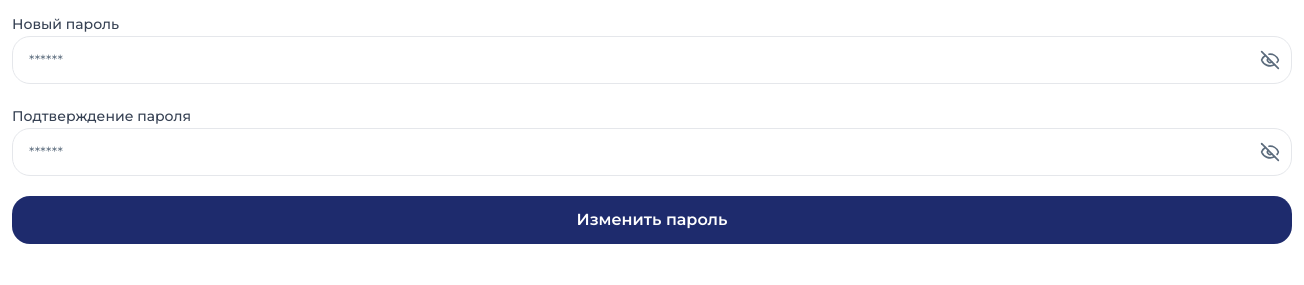
Test: ChangeManagerPasswordForm › проверяет совпадение паролей
The width and height of the screenshot is (1304, 285).
Type "secret123" into the password field labelled "Новый пароль" at (652, 60), box [12, 36, 1292, 84]
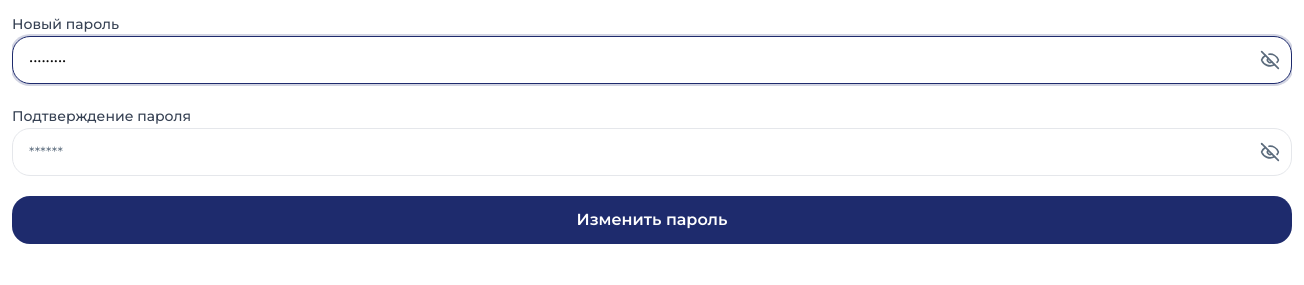
Type "other123" into the password field labelled "Подтверждение пароля" at (652, 152), box [12, 128, 1292, 176]
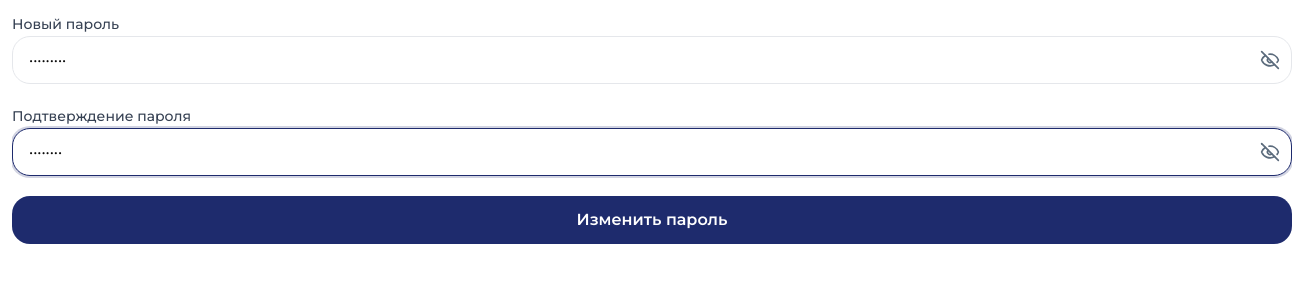
Click the button "Изменить пароль" at (652, 220), box [12, 196, 1292, 244]
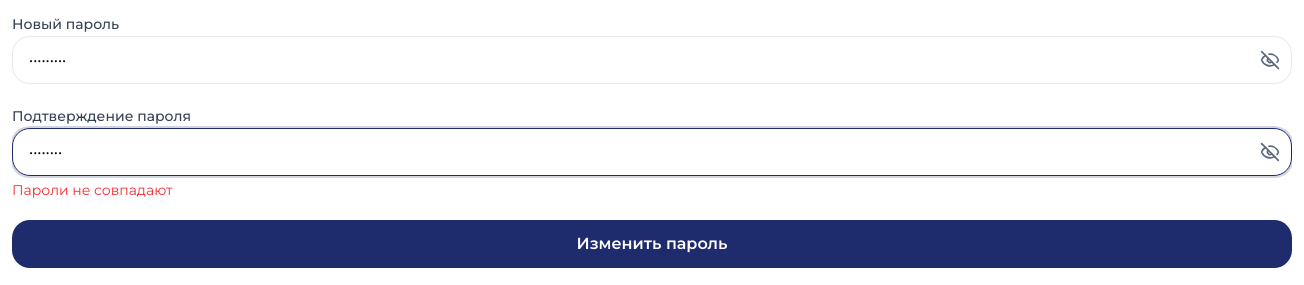
Expected: the text "Пароли не совпадают" is shown, [12, 181, 173, 199]
